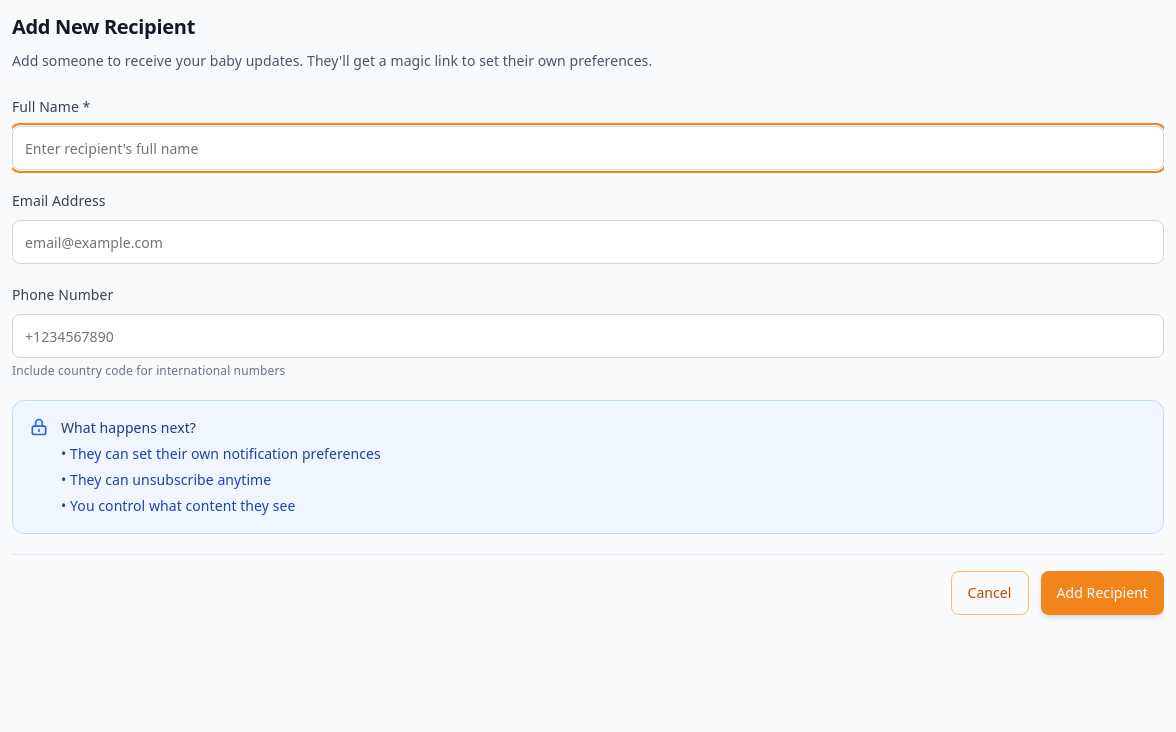
Test case: AddRecipientForm duplicate handling › shows duplicate warning when duplicate is detected
Type "Grandma Existing" into the field labelled "Full Name *" at (588, 148), box [12, 126, 1164, 170]
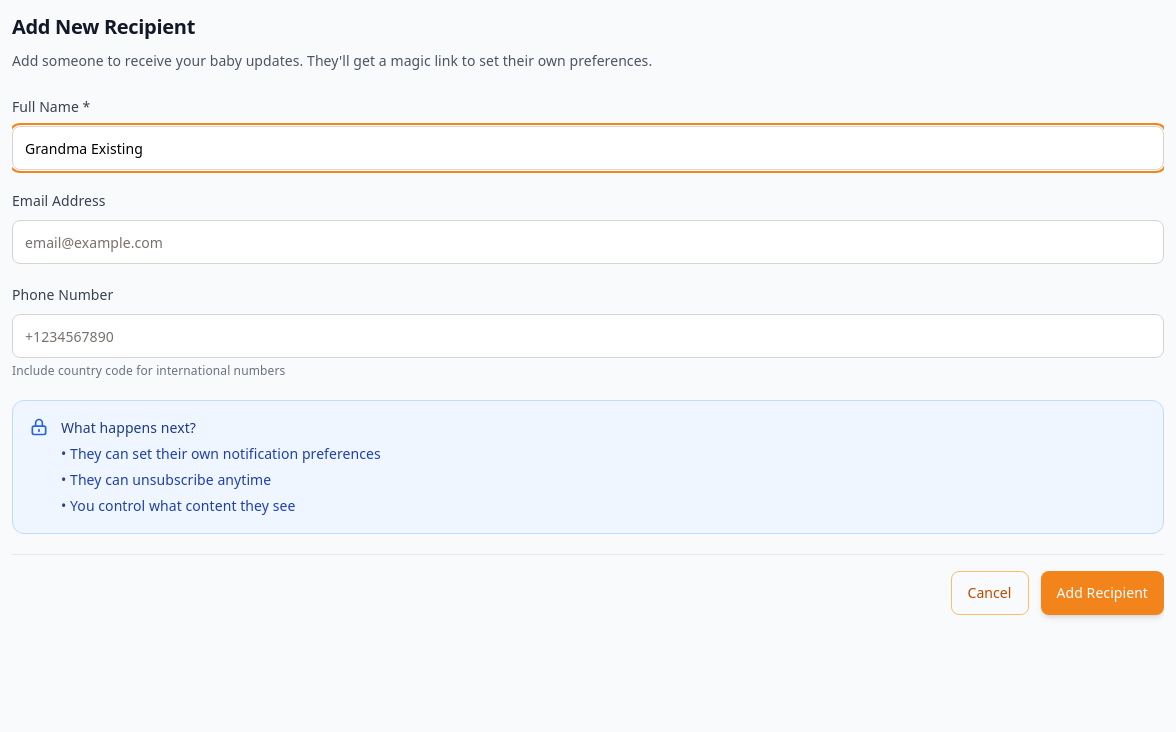
Type "grandma@example.com" into the field labelled "Email Address" at (588, 242), box [12, 220, 1164, 264]
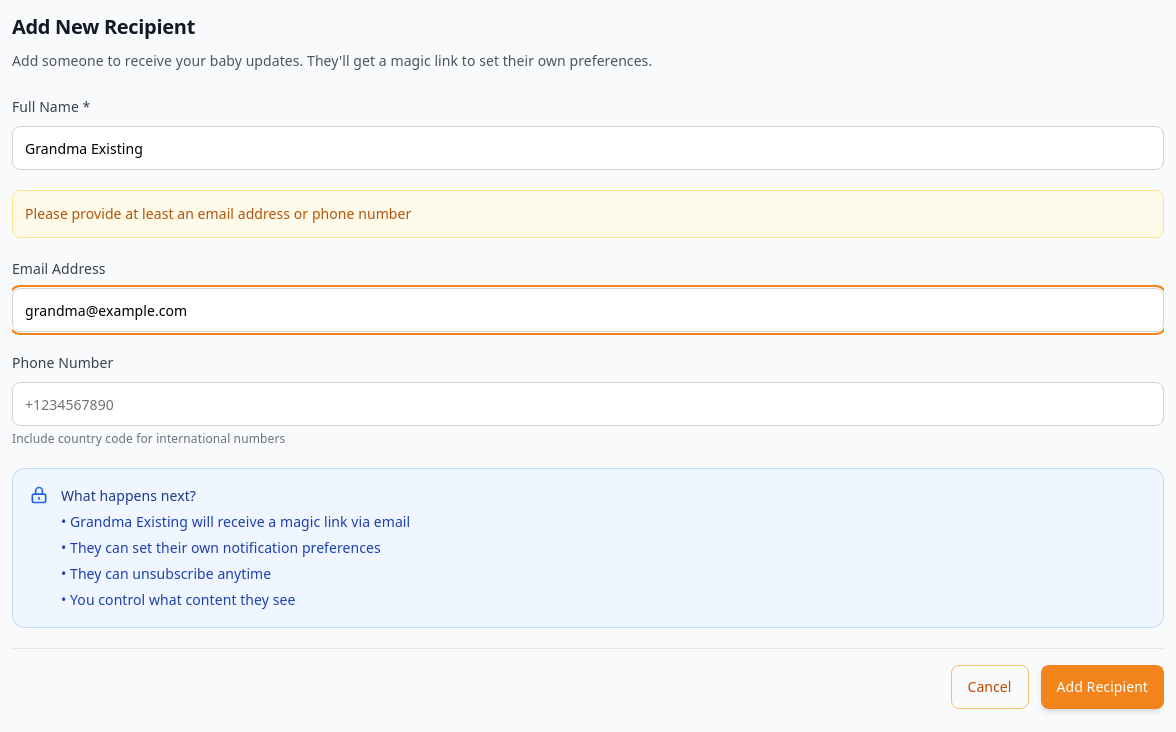
Leave the field labelled "Email Address", box [12, 288, 1164, 332]
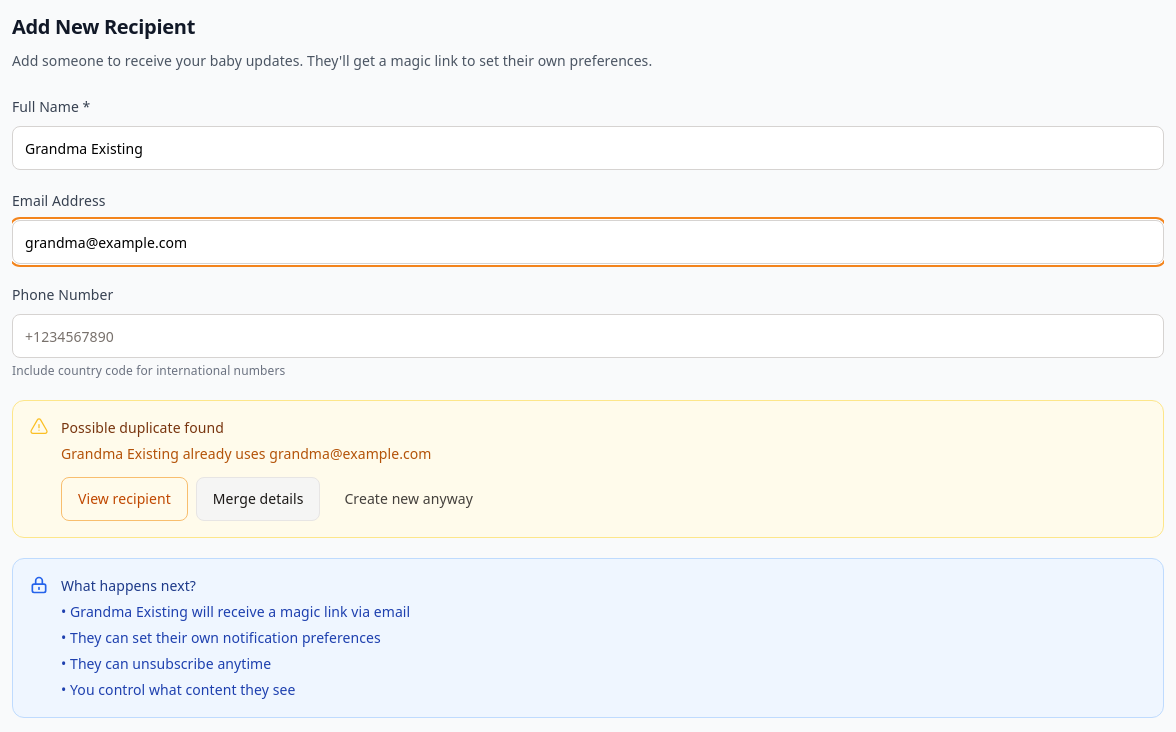
Check: the heading "Possible duplicate found" is shown, box [61, 418, 224, 437]
Check: the text "Grandma Existing already uses grandma@example.com" is shown, box [61, 444, 432, 463]
